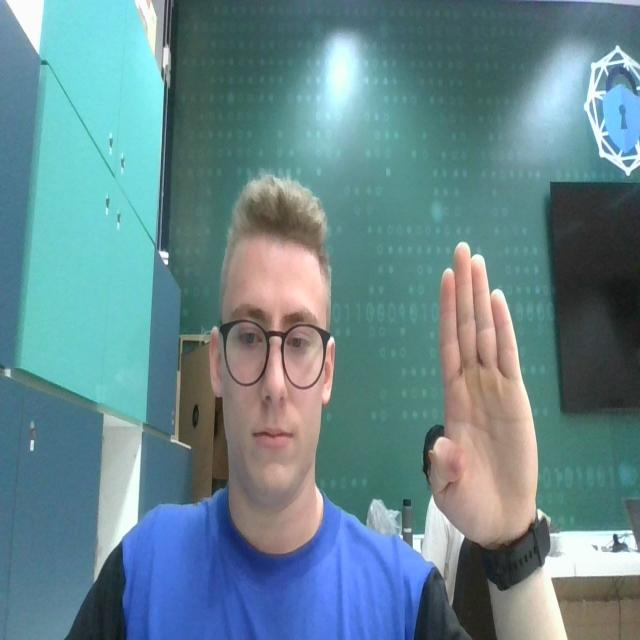B: (424, 240, 540, 533)
